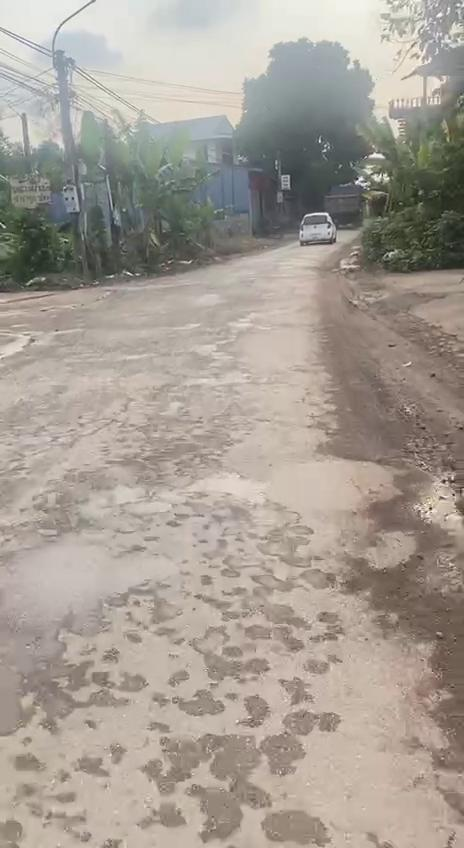pothole: (352, 447, 464, 624)
